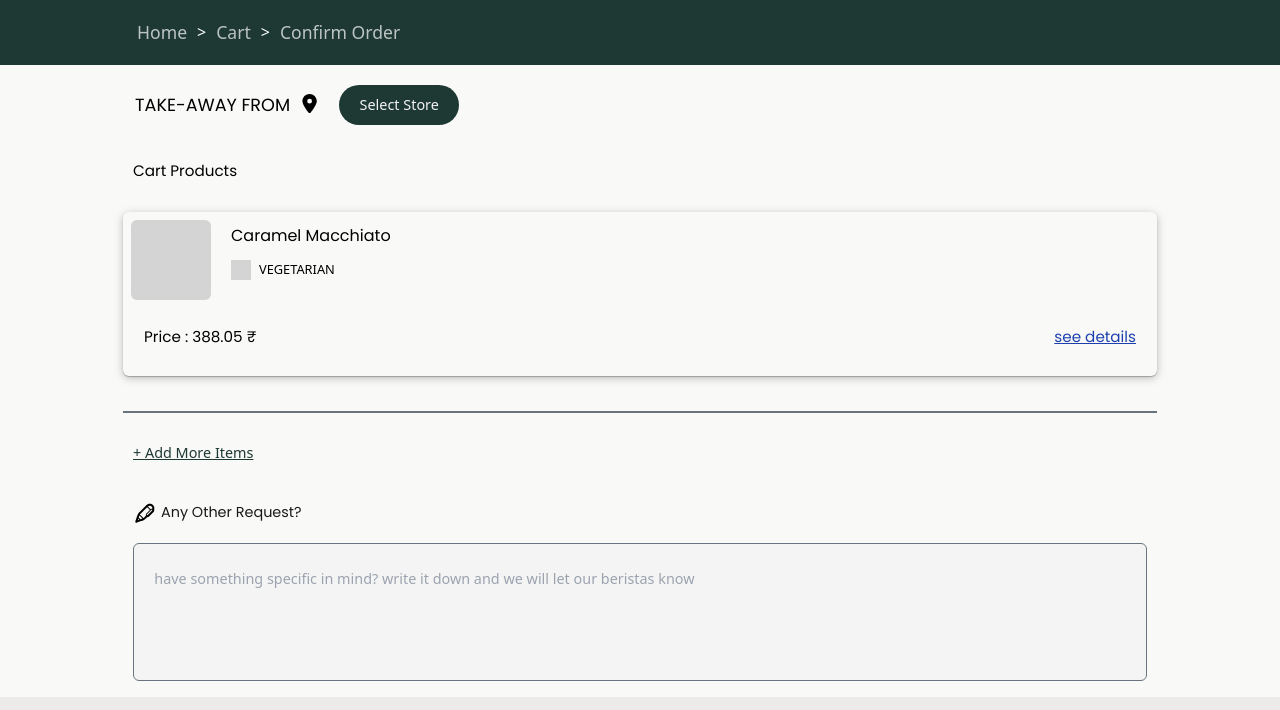
Test: Confirm Order Component Test › Confirm Order Component Rendering and functioning test
Expected: the text "Take-away from" is shown, [125,92,290,118]
Expected: the text "Caramel Macchiato" is shown, [231,224,391,247]
Click the button with test id "selectCityTest": [399, 105] box [339,85,459,125]
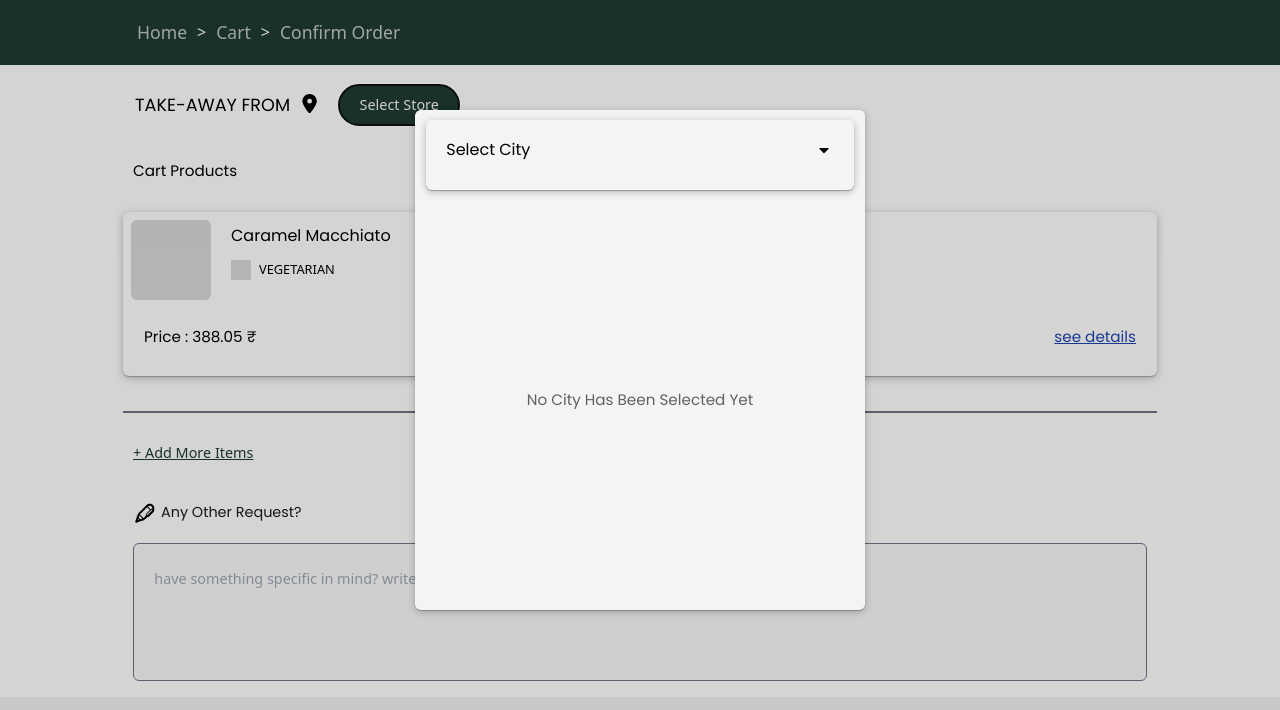
Click the text "select city": [488, 150] box [446,138,530,161]
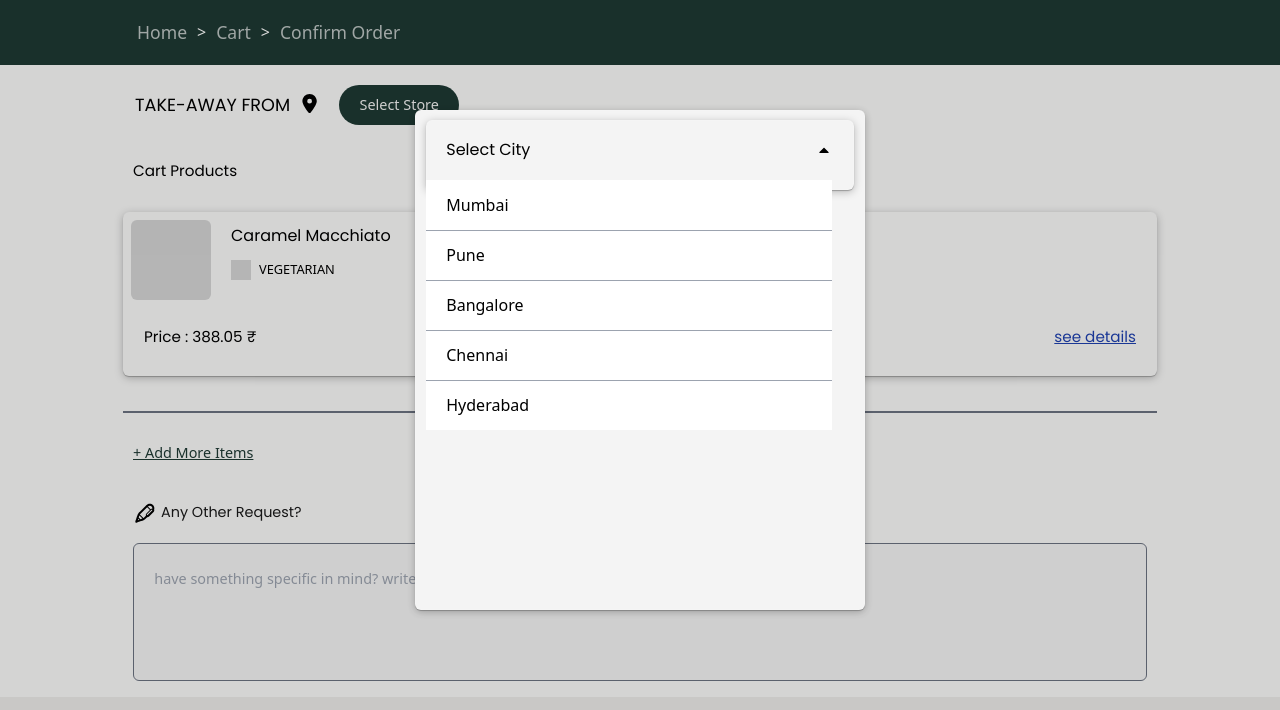
Click the text "Pune": [629, 255] box [426,230,832,280]
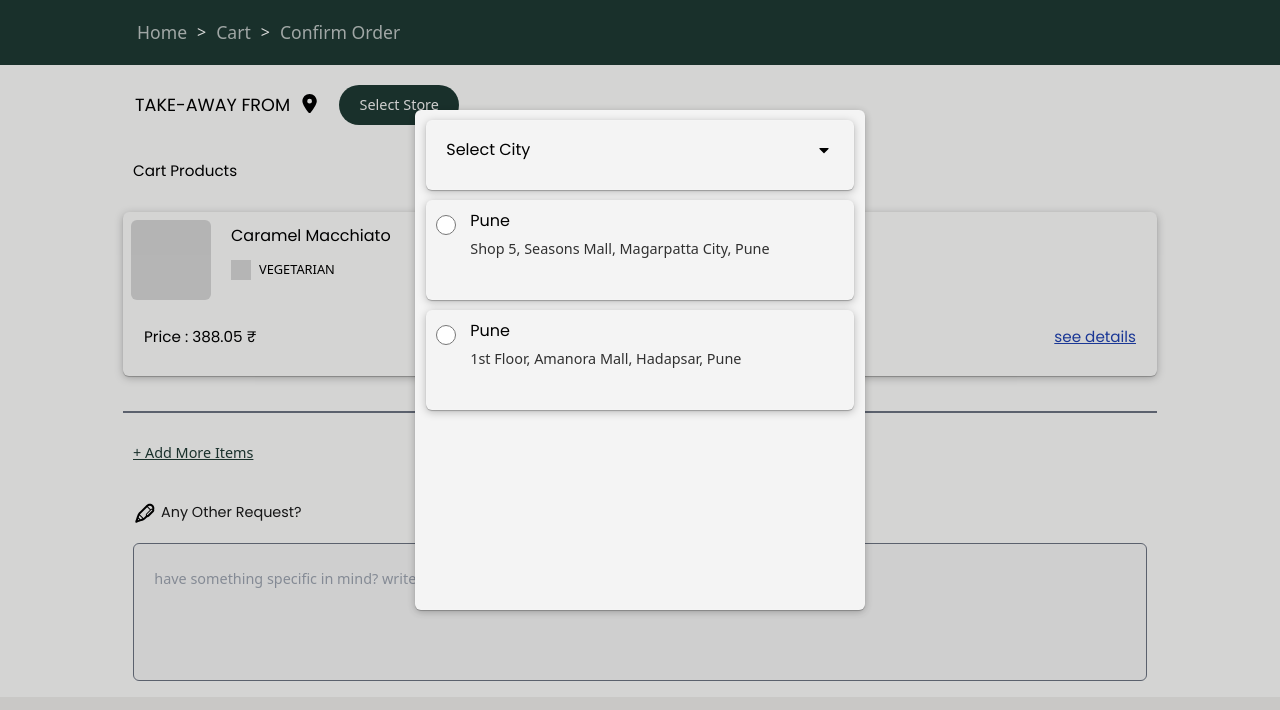
Click the radio button with test id "radio-4": [446, 335] box [436,325,456,345]
(page scrolled)
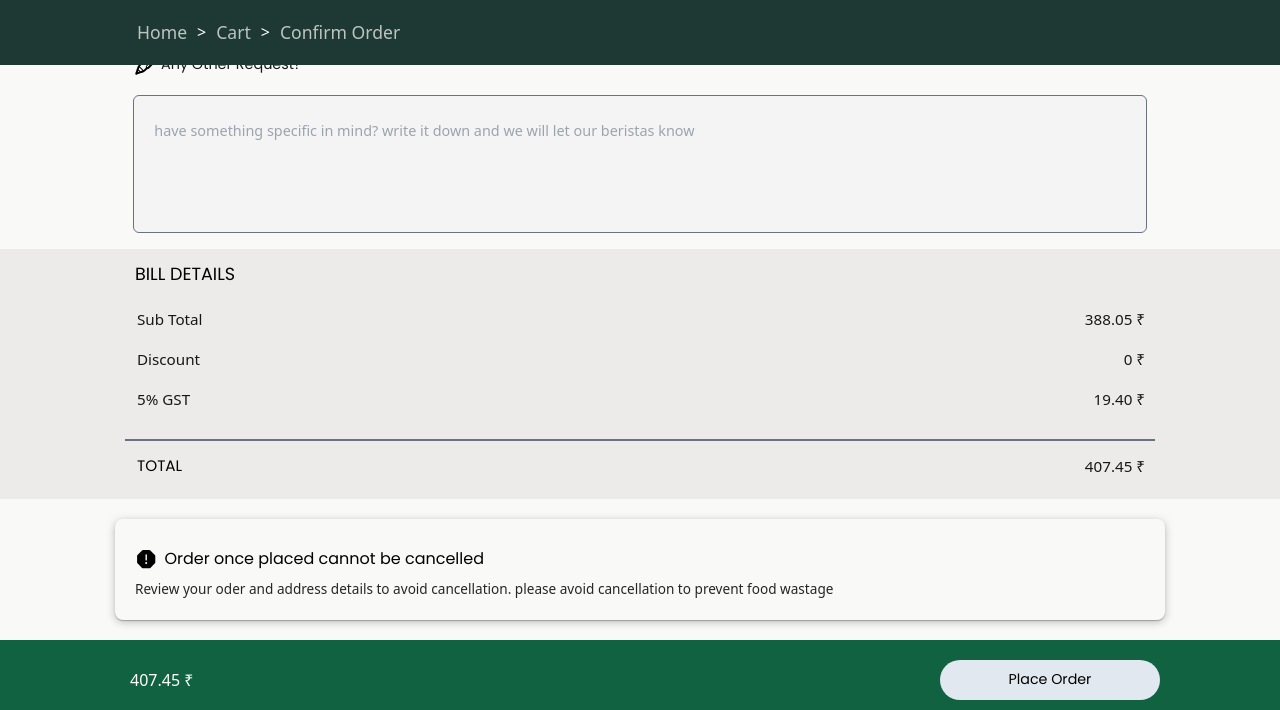
Click the button with test id "placeOrderTest": [1050, 680] box [940,660,1160,700]
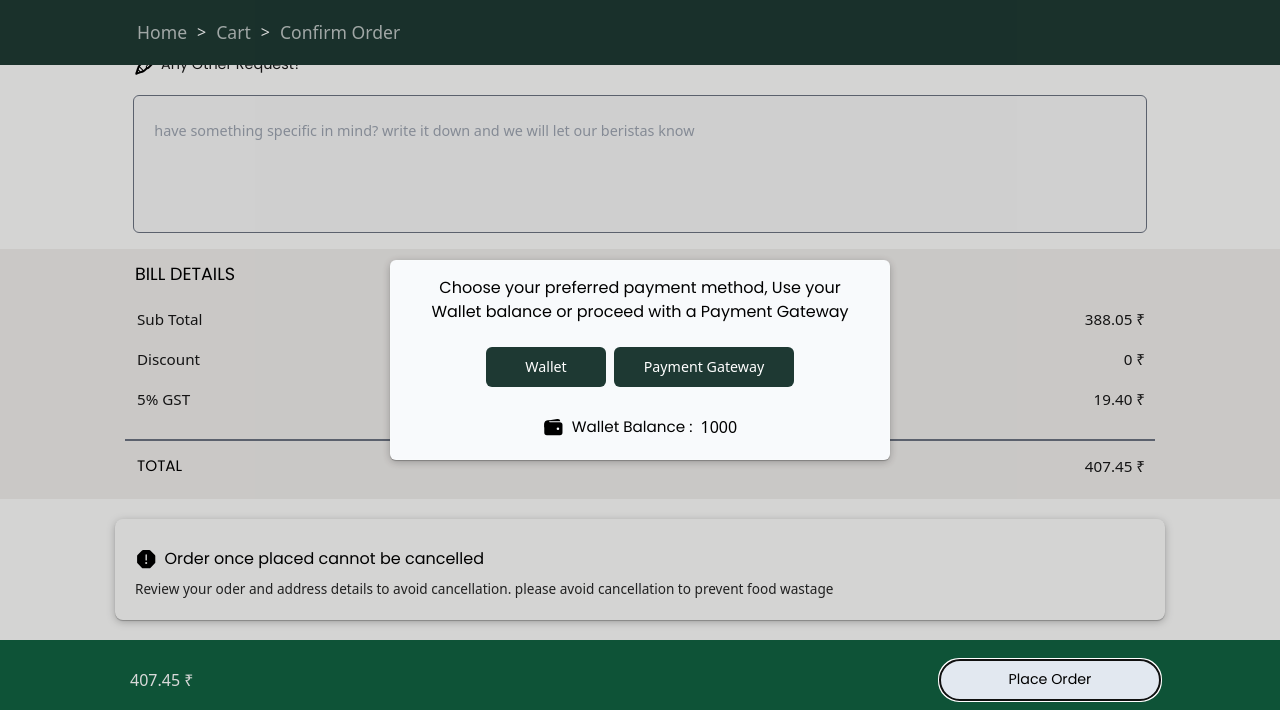
Expected: the text "Choose your preferred payment method" is shown, [431,276,849,323]
